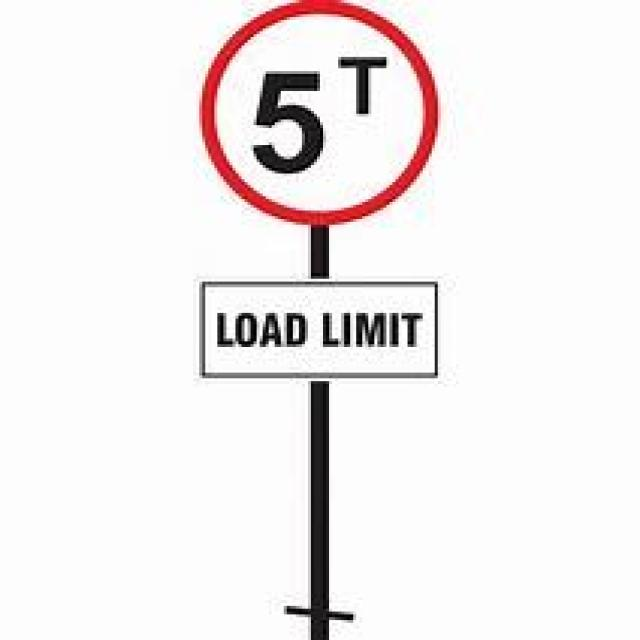load_limit: (193, 0, 438, 222)
